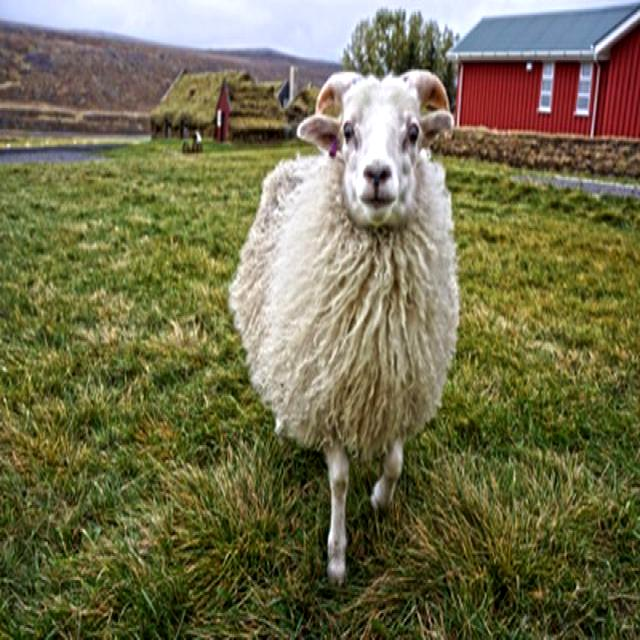sheep: (228, 65, 458, 587)
